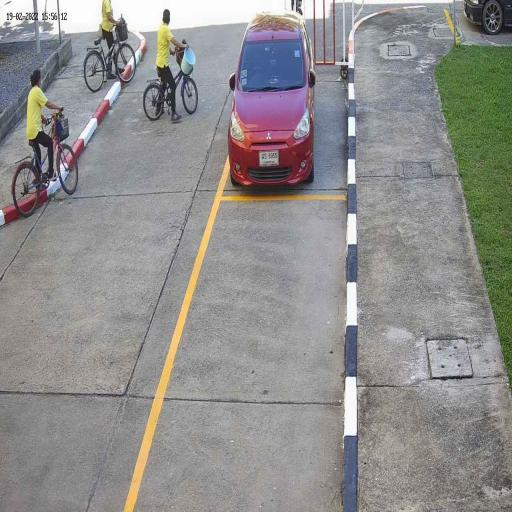car: (228, 10, 316, 189)
